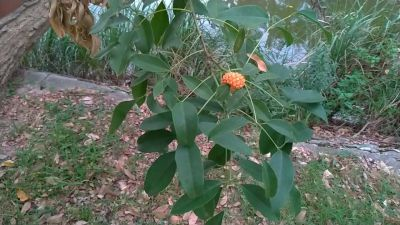eggs: (221, 67, 244, 89)
